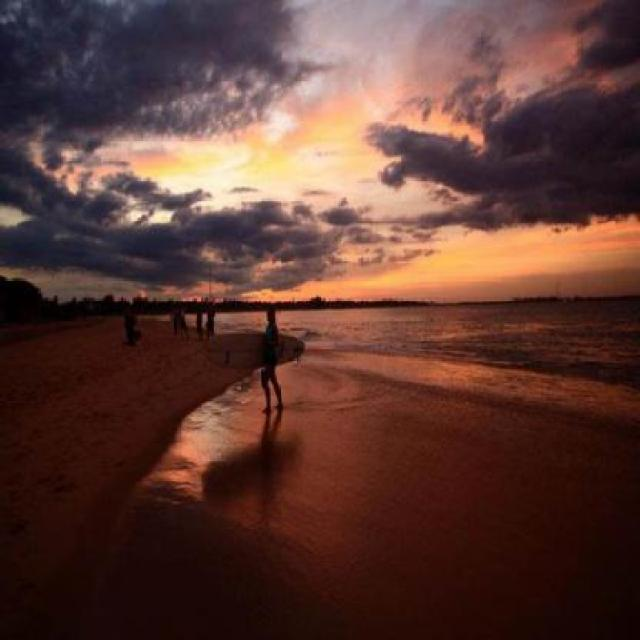Person: (259, 308, 287, 417), (171, 301, 218, 336), (122, 310, 141, 345)
